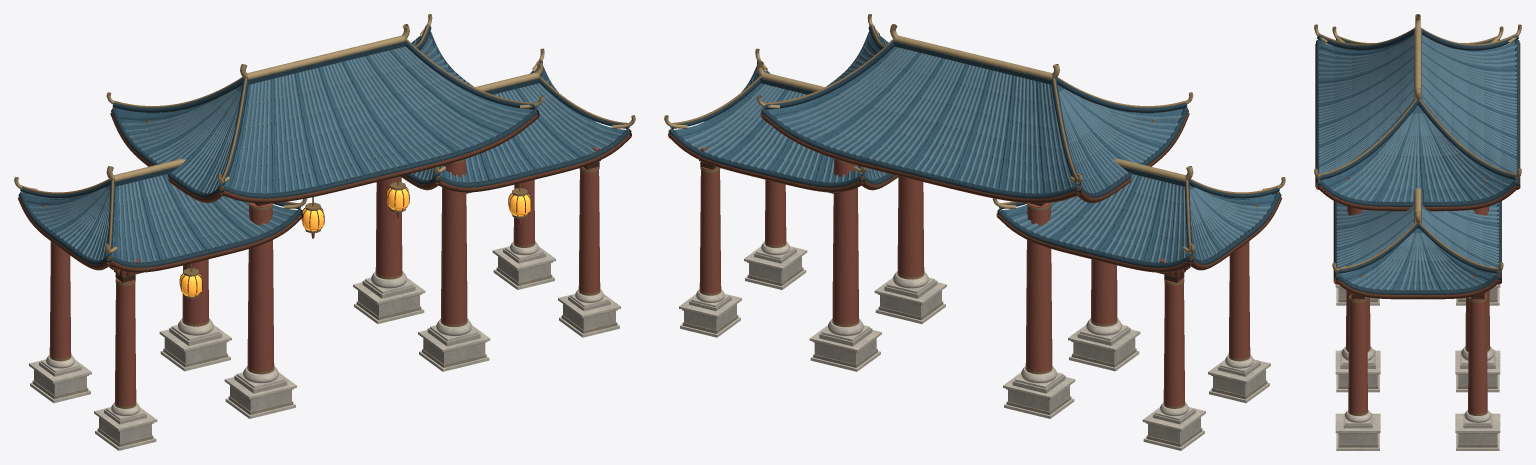
3 views of the same model, side by side, from view 1: azimuth 30°, elevation 25°; view 2: azimuth 150°, elevation 25°; view 3: azimuth 270°, elevation 25° (orthographic). The views are drawn at different scales.
Visible parts, largest first — view 1: GateRoofs_tileRound, GateRoofs_glaze, GateColumns_lacquer, GateRoofs_shadowTile, GranitePostSeats_stonePale, GranitePostSeats_stone, GateRoofs_heartwood, GateColumns_stonePale, GateRoofs_gold, GranitePostSeats_carving, GateColumns_stone, GateRoofs_bronze (+3 smaller); view 2: GateRoofs_tileRound, GateRoofs_glaze, GateColumns_lacquer, GateRoofs_shadowTile, GranitePostSeats_stonePale, GranitePostSeats_stone, GateRoofs_heartwood, GateColumns_stonePale, GateRoofs_gold, GranitePostSeats_carving, GateColumns_stone, GateRoofs_bronze (+1 smaller); view 3: GateRoofs_tileRound, GateRoofs_glaze, GateRoofs_shadowTile, GateColumns_lacquer, GranitePostSeats_stonePale, GateRoofs_heartwood, GateRoofs_bronze, GranitePostSeats_stone, GateRoofs_gold, GateColumns_stonePale, GranitePostSeats_carving, GateColumns_stone (+1 smaller).
Part boxes in pixels (left/top/right/bottom): GateRoofs_tileRound: left=27, top=39, right=622, bottom=262; GateRoofs_glaze: left=24, top=35, right=625, bottom=262; GateColumns_lacquer: left=49, top=147, right=603, bottom=406; GateRoofs_shadowTile: left=18, top=25, right=631, bottom=267; GranitePostSeats_stonePale: left=29, top=246, right=620, bottom=450; GranitePostSeats_stone: left=34, top=256, right=615, bottom=443; GateRoofs_heartwood: left=18, top=51, right=631, bottom=272; GateColumns_stonePale: left=41, top=241, right=608, bottom=420; GateRoofs_gold: left=14, top=14, right=635, bottom=253; GranitePostSeats_carving: left=32, top=262, right=617, bottom=446; GateColumns_stone: left=39, top=248, right=610, bottom=424; GateRoofs_bronze: left=20, top=24, right=629, bottom=259; GateRoofs_tileRound: left=684, top=36, right=1270, bottom=262; GateRoofs_glaze: left=674, top=36, right=1275, bottom=262; GateColumns_lacquer: left=696, top=147, right=1250, bottom=406; GateRoofs_shadowTile: left=668, top=25, right=1281, bottom=267; GranitePostSeats_stonePale: left=679, top=246, right=1270, bottom=450; GranitePostSeats_stone: left=684, top=256, right=1265, bottom=443; GateRoofs_heartwood: left=668, top=51, right=1281, bottom=272; GateColumns_stonePale: left=691, top=241, right=1258, bottom=420; GateRoofs_gold: left=664, top=14, right=1285, bottom=253; GranitePostSeats_carving: left=682, top=262, right=1267, bottom=446; GateColumns_stone: left=689, top=248, right=1260, bottom=424; GateRoofs_bronze: left=670, top=24, right=1279, bottom=259; GateRoofs_tileRound: left=1319, top=34, right=1516, bottom=290; GateRoofs_glaze: left=1319, top=34, right=1516, bottom=290; GateRoofs_shadowTile: left=1316, top=29, right=1519, bottom=294; GateColumns_lacquer: left=1346, top=206, right=1489, bottom=413; GranitePostSeats_stonePale: left=1335, top=284, right=1500, bottom=450; GateRoofs_heartwood: left=1315, top=43, right=1520, bottom=299; GateRoofs_bronze: left=1318, top=28, right=1517, bottom=276; GranitePostSeats_stone: left=1339, top=288, right=1496, bottom=444; GateRoofs_gold: left=1314, top=14, right=1521, bottom=272; GateColumns_stonePale: left=1341, top=346, right=1494, bottom=424; GranitePostSeats_carving: left=1337, top=287, right=1498, bottom=447; GateColumns_stone: left=1340, top=350, right=1495, bottom=428.
Bounding box in the file's own units: 16.45 × 9.28 × 6.08.
13 materials, 12 textured.
